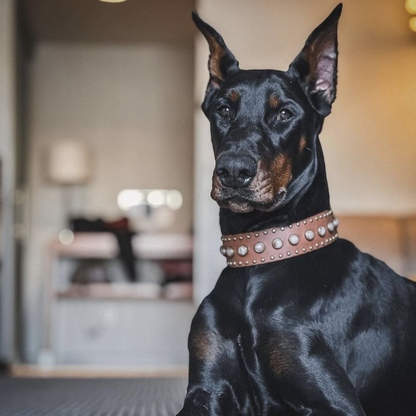doberman: (181, 10, 416, 414)
